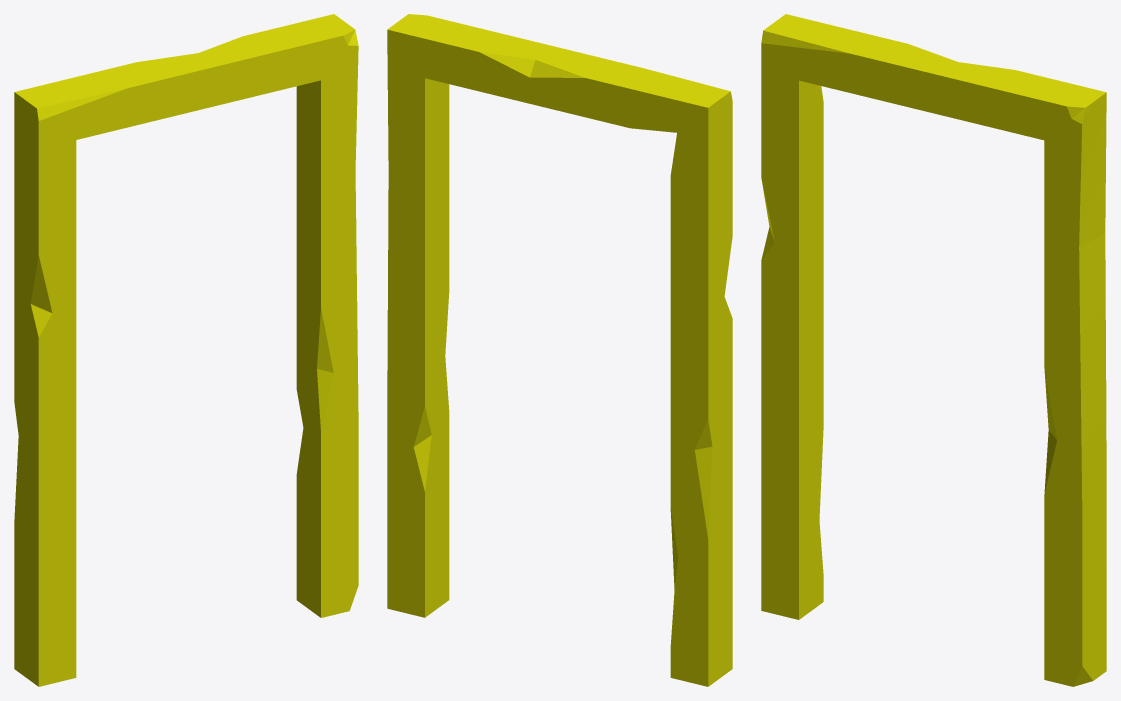
The model's file is SM_PolygonPrototype_Buildings_DoorFrame_01P.glb.
The picture shows the model from 3 angles, left to right: view 1: azimuth 30°, elevation 25°; view 2: azimuth 150°, elevation 25°; view 3: azimuth 330°, elevation 25°; orthographic projection.
Visible parts, largest first — view 1: SM_PolygonPrototype_Buildings_DoorFrame_01P; view 2: SM_PolygonPrototype_Buildings_DoorFrame_01P; view 3: SM_PolygonPrototype_Buildings_DoorFrame_01P.
Boxes of the visible parts, bbox=[...] form: SM_PolygonPrototype_Buildings_DoorFrame_01P: bbox=[14, 14, 358, 686]; SM_PolygonPrototype_Buildings_DoorFrame_01P: bbox=[387, 14, 732, 686]; SM_PolygonPrototype_Buildings_DoorFrame_01P: bbox=[761, 14, 1106, 686].
Bounding box in the file's own units: 1.31 × 2.25 × 0.1729.
Materials: 1 (1 with a texture image).
